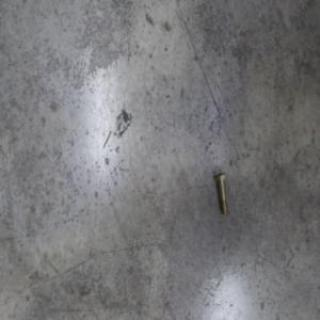Bolttrack_idkeyframe: (213, 170, 227, 214)
